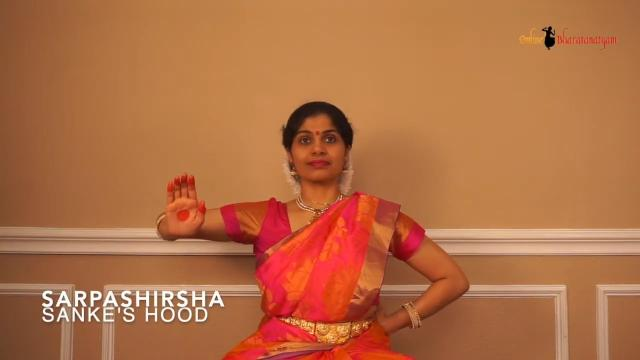sarpsheesh: (146, 152, 220, 254)
